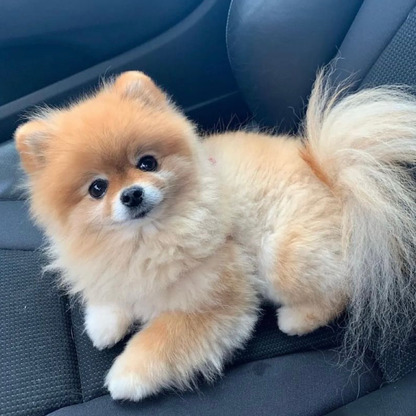Pomeranian: (10, 75, 401, 386)
